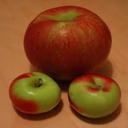apple: (67, 75, 121, 117)
